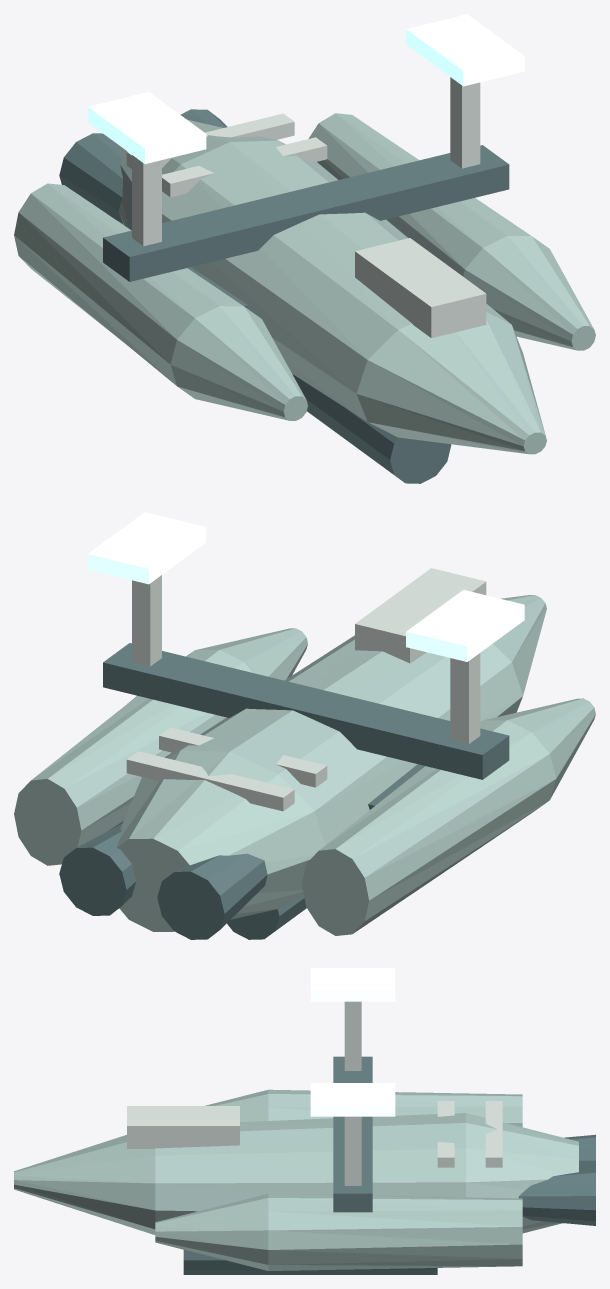
3 renders of one model, top to bottom at view 1: azimuth 30°, elevation 25°; view 2: azimuth 150°, elevation 25°; view 3: azimuth 270°, elevation 25°, orthographic. The views are drawn at different scales.
Size of the model in its own units: 2.52 by 1.99 by 4.45.
